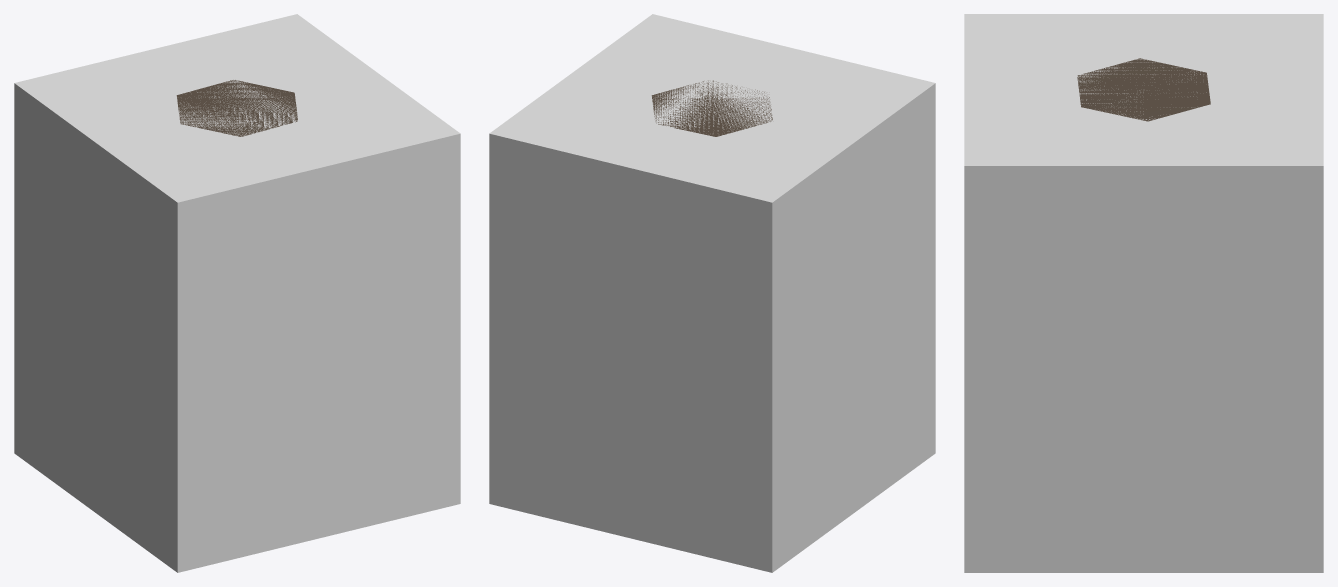
Rendered from anchor_basalt_a.glb.
3 views of the same model, side by side, from view 1: azimuth 30°, elevation 25°; view 2: azimuth 150°, elevation 25°; view 3: azimuth 270°, elevation 25° (orthographic). The views are drawn at different scales.
Parts seen in each view (by area): view 1: anchor_basalt_a-col, anchor_basalt_a; view 2: anchor_basalt_a-col, anchor_basalt_a; view 3: anchor_basalt_a-col, anchor_basalt_a.
Part boxes in pixels (left/top/right/bottom): anchor_basalt_a-col: left=14, top=14, right=460, bottom=572; anchor_basalt_a: left=176, top=80, right=297, bottom=136; anchor_basalt_a-col: left=489, top=14, right=935, bottom=572; anchor_basalt_a: left=651, top=80, right=772, bottom=136; anchor_basalt_a-col: left=964, top=14, right=1323, bottom=572; anchor_basalt_a: left=1077, top=58, right=1210, bottom=121.
Bounding box in the file's own units: 8 × 10 × 8.
